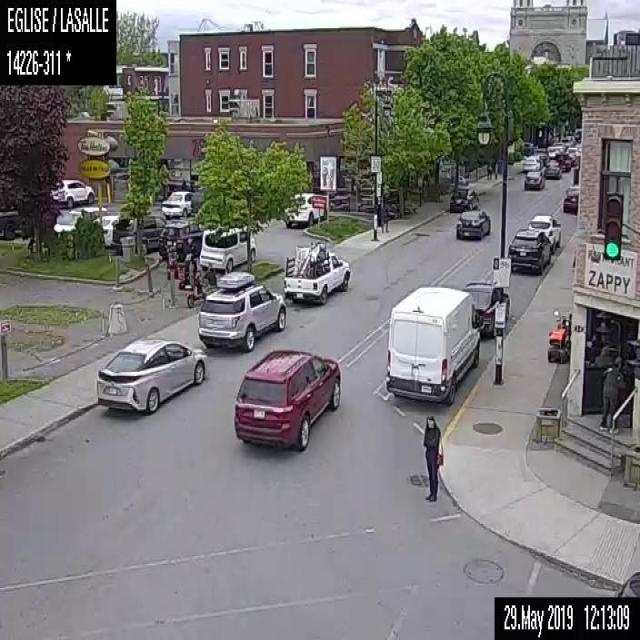pedestrian: (600, 351, 626, 436), (422, 414, 443, 502), (176, 252, 202, 289), (164, 240, 182, 278), (380, 198, 390, 236), (203, 263, 216, 291), (486, 156, 492, 180)
vehicle: (196, 241, 351, 351), (385, 282, 481, 406), (232, 348, 341, 451), (93, 335, 208, 416), (281, 238, 350, 306), (459, 279, 510, 340), (198, 224, 256, 272), (506, 227, 552, 272), (112, 214, 162, 248), (159, 222, 204, 255), (52, 206, 104, 234), (282, 192, 324, 225), (48, 178, 96, 204), (546, 310, 568, 363), (528, 213, 562, 247), (454, 208, 490, 240), (161, 187, 193, 218), (93, 213, 122, 246), (448, 186, 479, 213), (184, 271, 207, 306), (616, 569, 639, 596), (522, 167, 543, 190), (542, 160, 561, 180), (563, 189, 578, 212), (520, 154, 540, 170), (555, 152, 571, 169), (564, 146, 580, 159)
